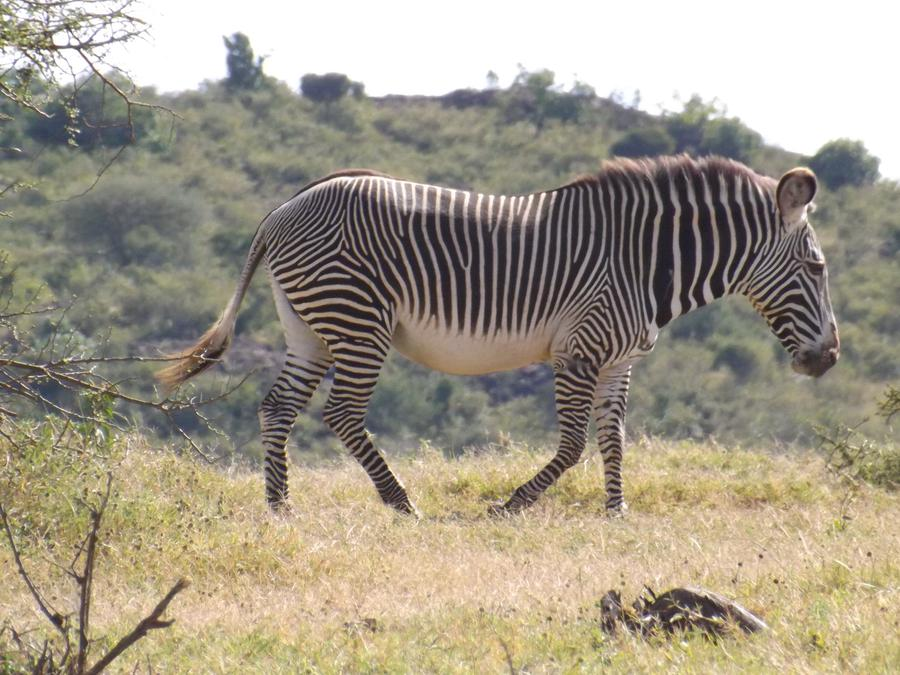zebra_grevys: (241, 170, 635, 367)
